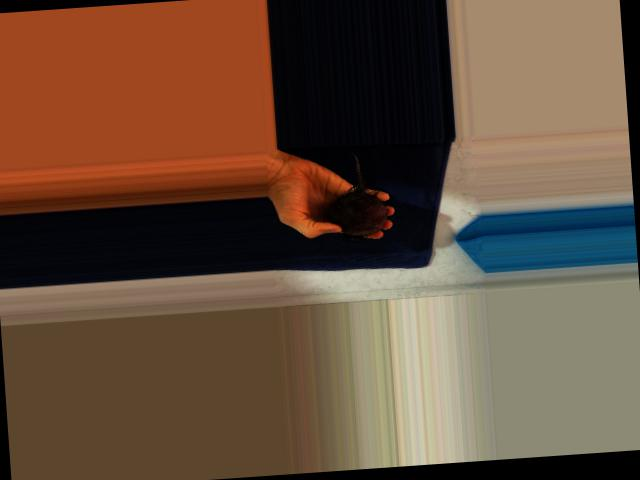beet: (324, 149, 389, 244)
